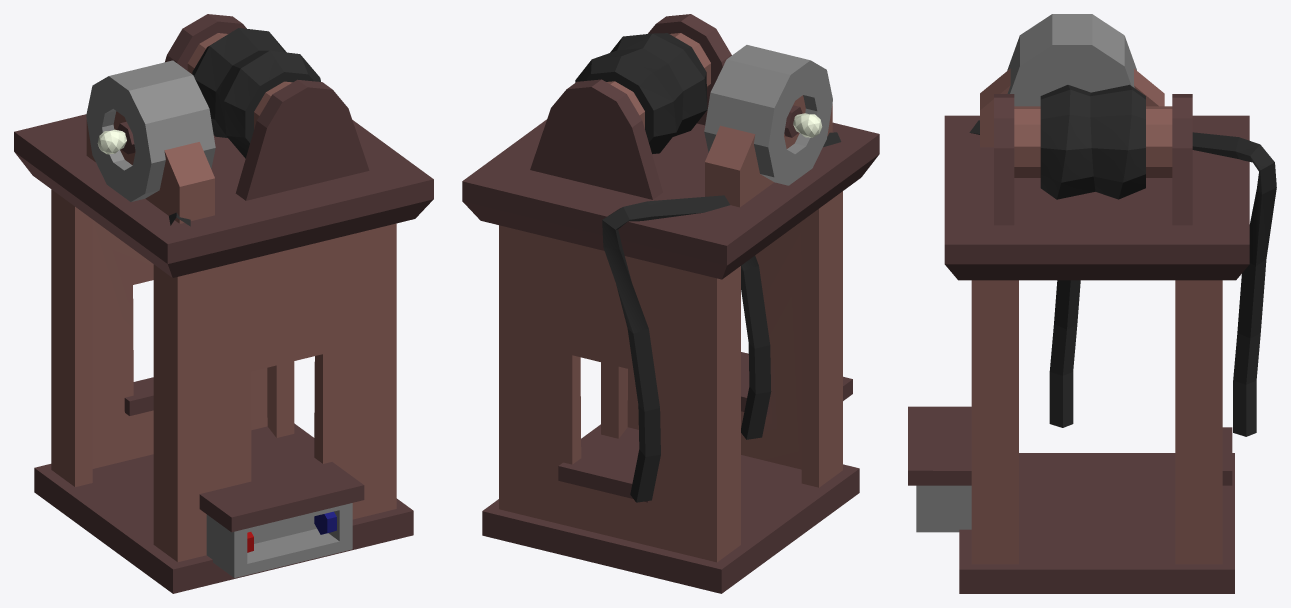
File: AlchemyElevator.fbx
3 views of the same model, side by side, from view 1: azimuth 30°, elevation 25°; view 2: azimuth 150°, elevation 25°; view 3: azimuth 270°, elevation 25° (orthographic).
Parts seen in each view (by area): view 1: AlchemyElevator, AlchemyElevatorLight; view 2: AlchemyElevator, ElectircalWiring, ElectircalWiring_1, AlchemyElevatorLight; view 3: AlchemyElevator, ElectircalWiring, ElectircalWiring_1.
Part boxes in pixels (box(x1,y1,x2,y2)): AlchemyElevator: box(14, 14, 433, 593); AlchemyElevatorLight: box(97, 129, 126, 154); AlchemyElevator: box(462, 14, 879, 593); ElectircalWiring: box(602, 195, 729, 502); ElectircalWiring_1: box(741, 132, 841, 439); AlchemyElevatorLight: box(793, 113, 822, 137); AlchemyElevator: box(908, 14, 1249, 593); ElectircalWiring: box(1192, 132, 1276, 436); ElectircalWiring_1: box(969, 120, 1080, 427).
Size of the model in its own units: 504 by 835 by 600.
